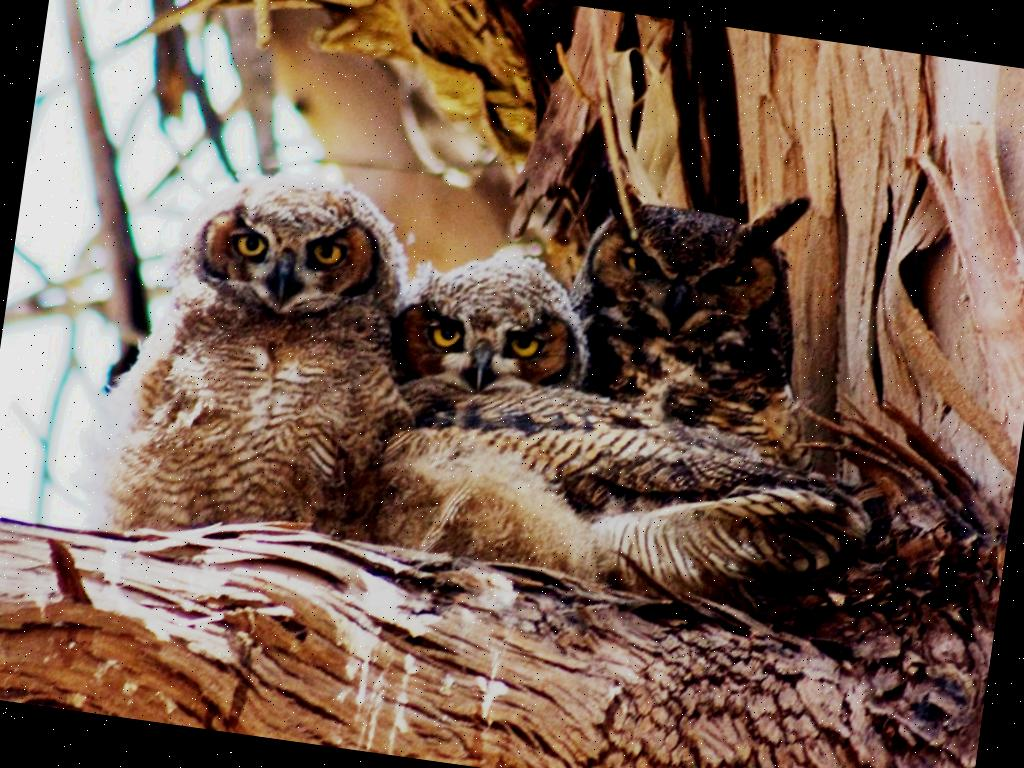Owl: (525, 165, 914, 610), (64, 148, 440, 568), (363, 233, 636, 592)
